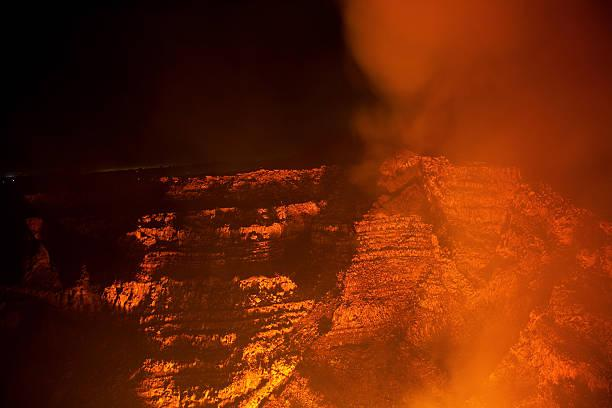Fire: (116, 158, 497, 408)
